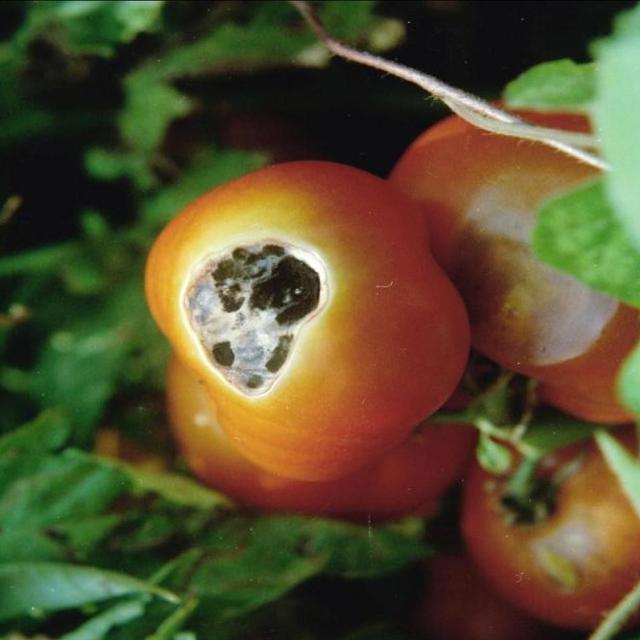Blossom End Rot Fruit: (111, 150, 238, 278)
